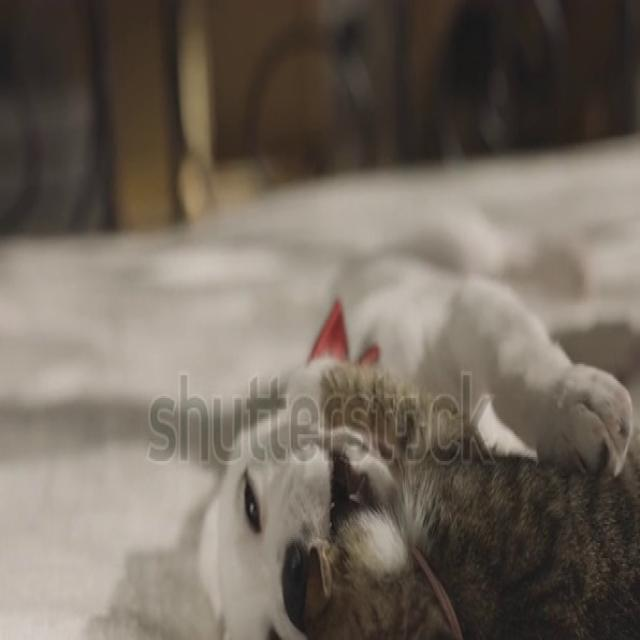normal_animals: (125, 293, 640, 637)
